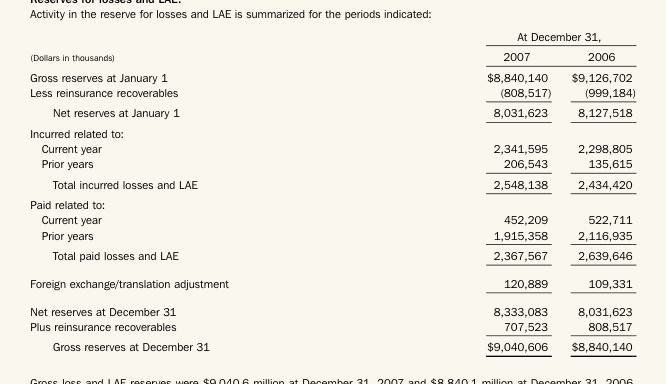table: (29, 28, 635, 352)
table column: (29, 28, 356, 352), (356, 28, 560, 352), (560, 28, 635, 352)
table column header: (29, 28, 635, 66)
table projected row header: (29, 122, 635, 140), (29, 193, 635, 211)
table row: (29, 268, 635, 296), (29, 244, 635, 268), (29, 296, 635, 318), (29, 45, 635, 66), (29, 101, 635, 122), (29, 173, 635, 193), (29, 66, 635, 84), (29, 122, 635, 140), (29, 155, 635, 173), (29, 193, 635, 211), (29, 226, 635, 244), (29, 28, 635, 45), (29, 84, 635, 101), (29, 318, 635, 335), (29, 335, 635, 352), (29, 140, 635, 155), (29, 211, 635, 226)
table spanning cell: (29, 28, 356, 66), (356, 28, 635, 45)
